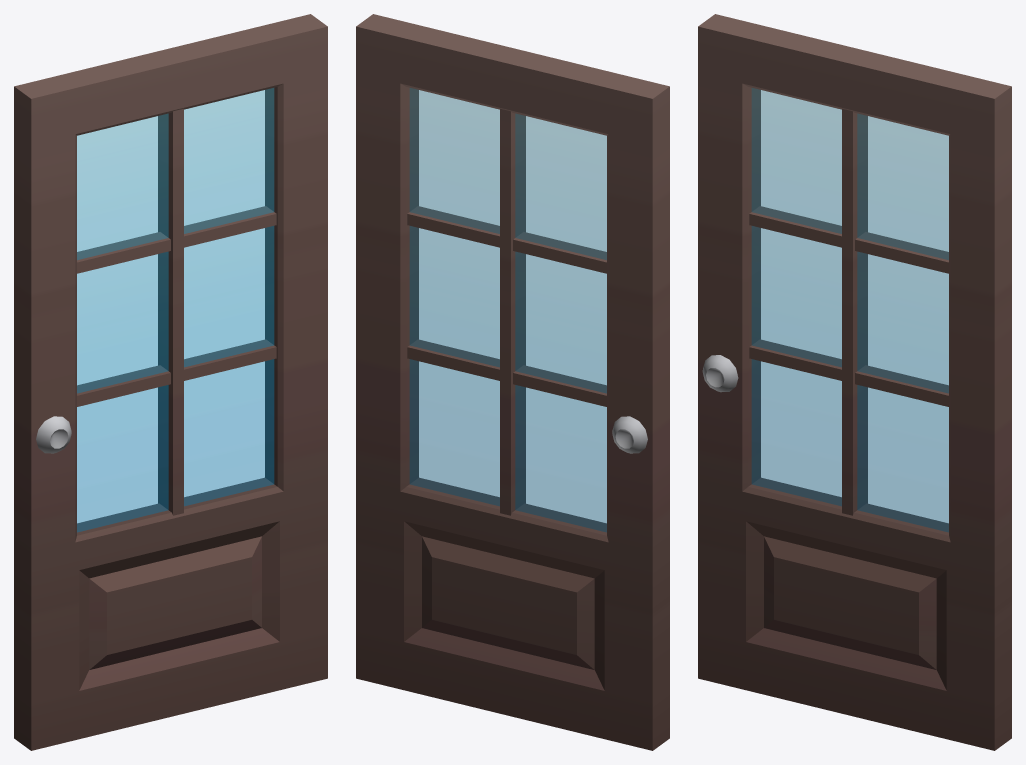
Rendered from Door_Brown_01.glb.
The picture shows the model from 3 angles, left to right: view 1: azimuth 30°, elevation 25°; view 2: azimuth 150°, elevation 25°; view 3: azimuth 330°, elevation 25°; orthographic projection.
Visible parts, largest first — view 1: Door_Brown_01; view 2: Door_Brown_01; view 3: Door_Brown_01.
Boxes of the visible parts, left/top/right/bottom form: Door_Brown_01: left=14, top=14, right=327, bottom=750; Door_Brown_01: left=356, top=14, right=669, bottom=750; Door_Brown_01: left=698, top=14, right=1011, bottom=750.
Bounding box in the file's own units: 1 × 2.1 × 0.1634.
2 materials, 2 textured.
